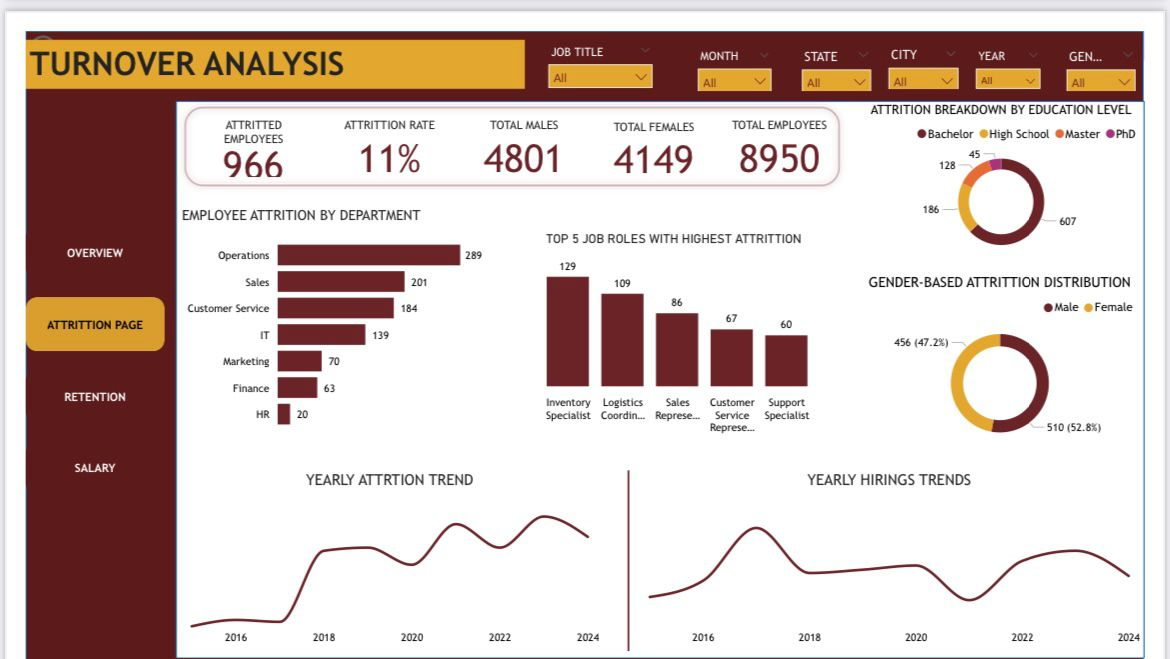

This screenshot's page, from the dashboard's own definition file:
{"tool":"powerbi","page":{"name":"ATTRITTION PAGE","canvas":[1280,720],"ordinal":1},"visuals":[{"type":"shape","box":[0,0,1278.8,720.6],"z":0},{"type":"shape","box":[172.3,79.5,1108.2,637.7],"z":1000},{"type":"slicer","fields":{"Values":["HumanResources (2).hireYear"]},"box":[1076.7,14.9,94.4,54.7],"z":2000},{"type":"lineChart","title":"YEARLY HIRINGS TRENDS","fields":{"Y":["measures (2).Total_Employees"],"Category":["HumanResources (2).hireYear"]},"box":[695.7,501.9,584.7,207.1],"z":3000},{"type":"actionButton","box":[0,0,100,40],"z":4000},{"type":"donutChart","title":"GENDER-BASED ATTRITTION DISTRIBUTION","fields":{"Y":["measures (2).Attritted_Employees"],"Category":["HumanResources (2).Gender"]},"box":[952.5,276.6,324.7,203.7],"z":5000},{"type":"barChart","title":"EMPLOYEE ATTRITION BY DEPARTMENT","fields":{"Category":["HumanResources (2).Department"],"Y":["measures (2).Attritted_Employees"]},"box":[173.9,200.4,352.8,266.7],"z":6000},{"type":"columnChart","title":"TOP 5 JOB ROLES WITH HIGHEST ATTRITTION","fields":{"Category":["HumanResources (2).Job Title"],"Y":["measures (2).Attritted_Employees"]},"box":[556.6,228.6,369.4,238.5],"z":7000},{"type":"lineChart","title":"YEARLY ATTRTION TREND","fields":{"Category":["HumanResources (2).Termdate.Variation.Date Hierarchy.Year"],"Y":["measures (2).Attritted_Employees"]},"box":[172.3,501.9,488.7,207.1],"z":8000},{"type":"shape","box":[682.5,501.9,14.9,207.1],"z":9000},{"type":"pieChart","title":"ATTRITION BREAKDOWN BY EDUCATION LEVEL","fields":{"Category":["HumanResources (2).Education Level"],"Y":["measures (2).Attritted_Employees"]},"box":[952.5,79.5,328,183.9],"z":10000},{"type":"slicer","fields":{"Values":["HumanResources (2).City"]},"box":[977.3,13.3,99.4,53],"z":11000},{"type":"slicer","fields":{"Values":["HumanResources (2).State"]},"box":[877.9,14.9,99.4,53],"z":12000},{"type":"slicer","fields":{"Values":["HumanResources (2).Gender"]},"box":[1181.1,14.9,99.4,53],"z":13000},{"type":"slicer","fields":{"Values":["HumanResources (2).hireMonth Name"]},"box":[758.7,14.9,104.4,53],"z":14000},{"type":"shape","box":[173.9,79.4,765.4,105.8],"z":15000},{"type":"card","title":"ATTRITTED EMPLOYEES","fields":{"Values":["measures (2).Attritted_Employees"]},"box":[192.2,97.7,137.5,74.5],"z":16000},{"type":"card","title":"TOTAL MALES","fields":{"Values":["measures (2).Total Males"]},"box":[501.9,97.7,137.5,74.5],"z":17000},{"type":"card","title":"TOTAL FEMALES","fields":{"Values":["measures (2).Total Females"]},"box":[657.6,101,122.6,71.2],"z":18000},{"type":"card","title":"TOTAL EMPLOYEES","fields":{"Values":["measures (2).Total_Employees"]},"box":[796.8,97.7,130.9,74.5],"z":19000},{"type":"slicer","fields":{"Values":["HumanResources (2).Job Title"]},"box":[588.1,9.9,139.1,66.3],"z":20000},{"type":"card","title":"ATTRITTION RATE","fields":{"Values":["measures (2).AttrittedPercentage"]},"box":[347.9,97.7,137.5,74.5],"z":21000},{"type":"pageNavigator","box":[0,222,159,308.1],"z":22000},{"type":"textbox","box":[0,9.9,571.5,56.3],"z":23000}]}

Visuals, with their boxes in screenshot pixels (x1, y1, x2, y2), scaled from the page's 1280x720 canvas onto the 1170x659 screenshot:
shape: bbox=[0, 0, 1169, 658]
shape: bbox=[157, 73, 1169, 656]
slicer - HumanResources (2).hireYear: bbox=[984, 14, 1070, 64]
"YEARLY HIRINGS TRENDS" lineChart: bbox=[636, 459, 1169, 649]
actionButton: bbox=[0, 0, 91, 37]
"GENDER-BASED ATTRITTION DISTRIBUTION" donutChart: bbox=[871, 253, 1167, 440]
"EMPLOYEE ATTRITION BY DEPARTMENT" barChart: bbox=[159, 183, 481, 428]
"TOP 5 JOB ROLES WITH HIGHEST ATTRITTION" columnChart: bbox=[509, 209, 846, 428]
"YEARLY ATTRTION TREND" lineChart: bbox=[157, 459, 604, 649]
shape: bbox=[624, 459, 637, 649]
"ATTRITION BREAKDOWN BY EDUCATION LEVEL" pieChart: bbox=[871, 73, 1169, 241]
slicer - HumanResources (2).City: bbox=[893, 12, 984, 61]
slicer - HumanResources (2).State: bbox=[802, 14, 893, 62]
slicer - HumanResources (2).Gender: bbox=[1080, 14, 1169, 62]
slicer - HumanResources (2).hireMonth Name: bbox=[693, 14, 789, 62]
shape: bbox=[159, 73, 859, 170]
"ATTRITTED EMPLOYEES" card: bbox=[176, 89, 301, 158]
"TOTAL MALES" card: bbox=[459, 89, 584, 158]
"TOTAL FEMALES" card: bbox=[601, 92, 713, 158]
"TOTAL EMPLOYEES" card: bbox=[728, 89, 848, 158]
slicer - HumanResources (2).Job Title: bbox=[538, 9, 665, 70]
"ATTRITTION RATE" card: bbox=[318, 89, 444, 158]
pageNavigator: bbox=[0, 203, 145, 485]
textbox: bbox=[0, 9, 522, 61]
